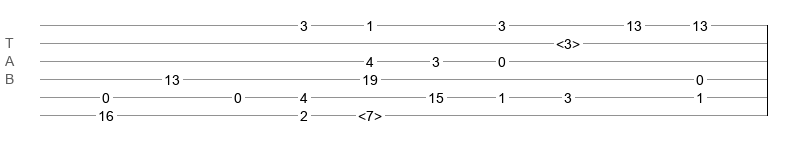0: (102, 90, 110, 100), (234, 90, 242, 100), (498, 54, 506, 64), (696, 72, 704, 82)
1: (366, 18, 374, 28), (498, 90, 506, 100), (696, 90, 704, 100)
13: (164, 72, 180, 82), (626, 18, 642, 28), (692, 18, 708, 28)
15: (428, 90, 444, 100)
16: (98, 108, 114, 118)
19: (362, 72, 378, 82)
2: (300, 108, 308, 118)
3: (300, 18, 308, 28), (432, 54, 440, 64), (498, 18, 506, 28), (564, 90, 572, 100)
4: (300, 90, 308, 100), (366, 54, 374, 64)
harmonic: (358, 108, 382, 118), (556, 36, 580, 46)
